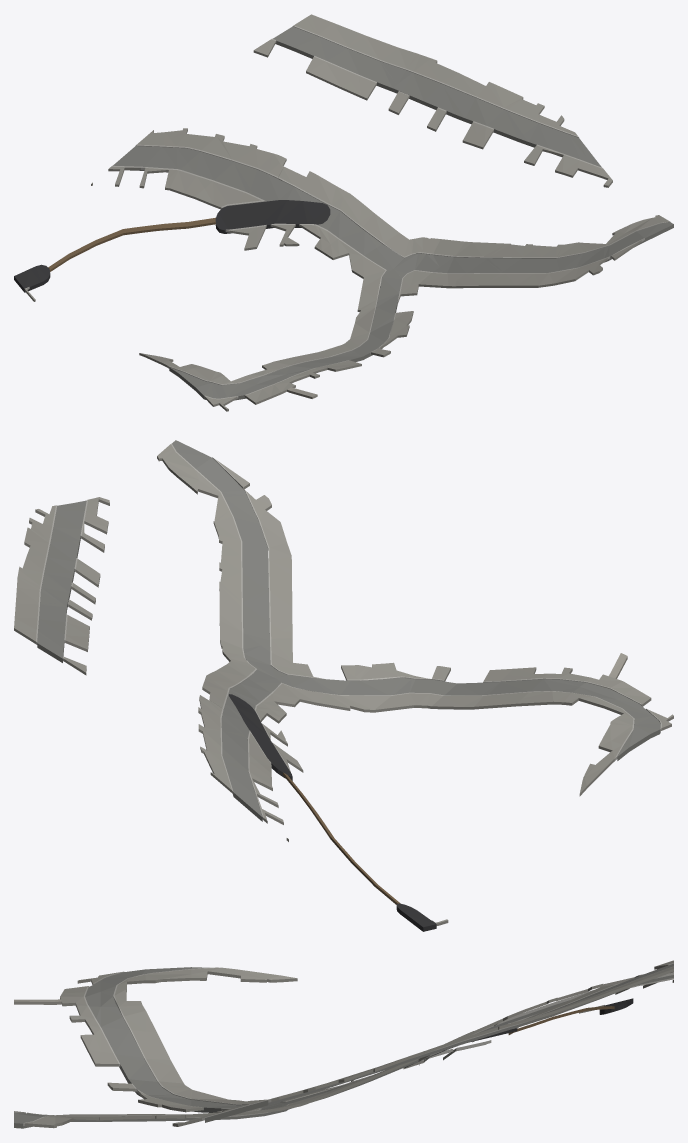
3 renders of one model, top to bottom at view 1: azimuth 30°, elevation 25°; view 2: azimuth 150°, elevation 25°; view 3: azimuth 270°, elevation 25°, orthographic. The views are drawn at different scales.
Bounding box in the file's own units: 147 × 60.69 × 146.
